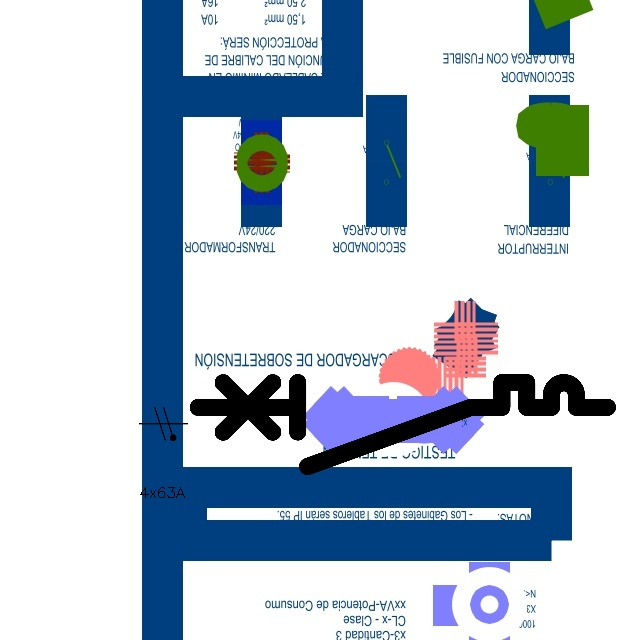interruptor_termomagnetico: (187, 372, 617, 477)
